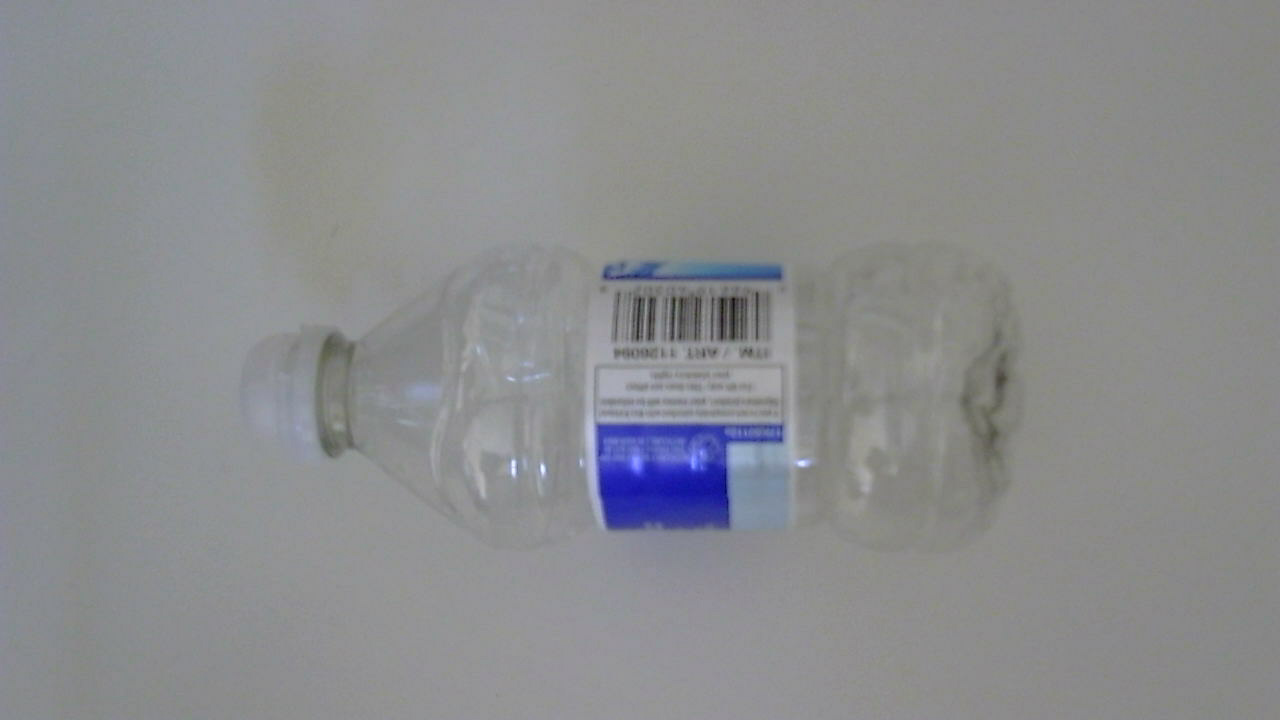Plastic Bottle: (232, 240, 1045, 569)
